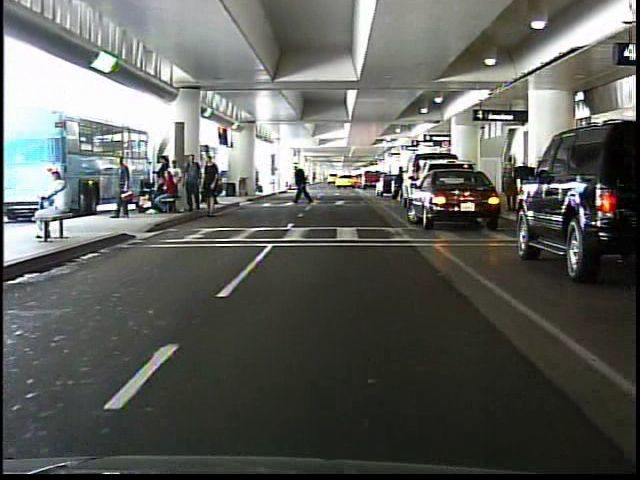person: (32, 164, 75, 243), (109, 150, 139, 224), (497, 151, 520, 212), (291, 162, 315, 208)
